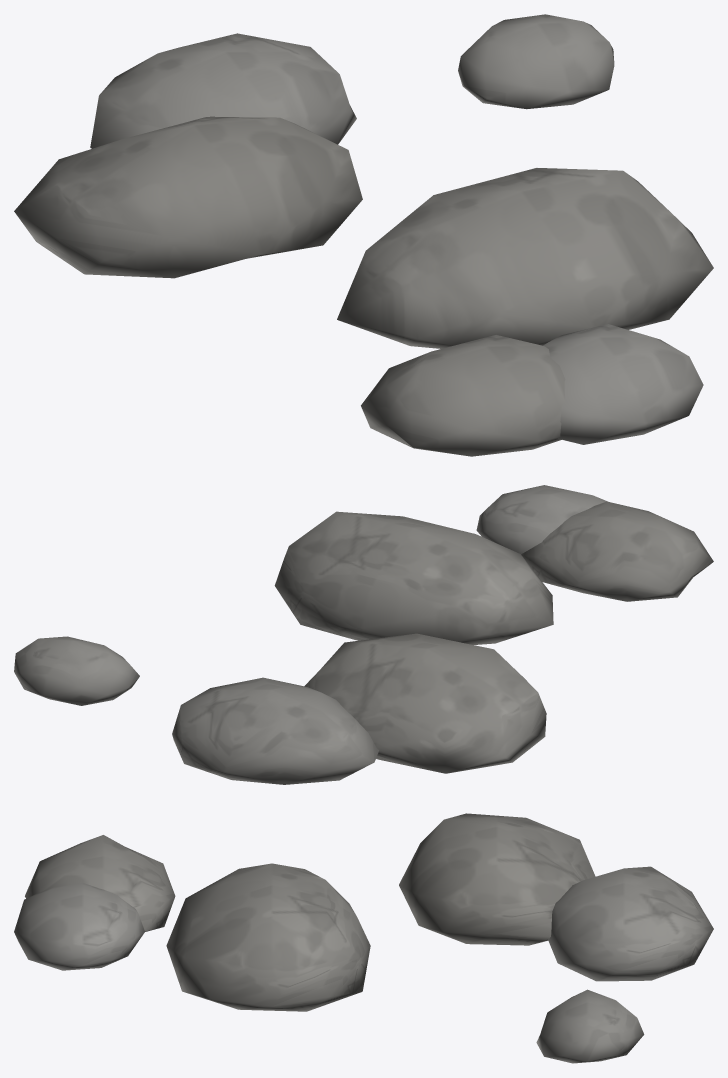
File: rock_pebbles.glb
The picture shows the model from 3 angles, top to bottom: view 1: azimuth 30°, elevation 25°; view 2: azimuth 150°, elevation 25°; view 3: azimuth 270°, elevation 25°; orthographic projection. The views are drawn at different scales.
Visible parts, largest first — view 1: rock_pebbles_stone; view 2: rock_pebbles_stone; view 3: rock_pebbles_stone.
Boxes of the visible parts, x1=… form: rock_pebbles_stone: x1=14, y1=14, x2=713, y2=456; rock_pebbles_stone: x1=14, y1=485, x2=713, y2=784; rock_pebbles_stone: x1=14, y1=813, x2=713, y2=1063.
Bounding box in the file's own units: 0.9871 × 0.1637 × 1.32.
Materials: 1 (1 with a texture image).
